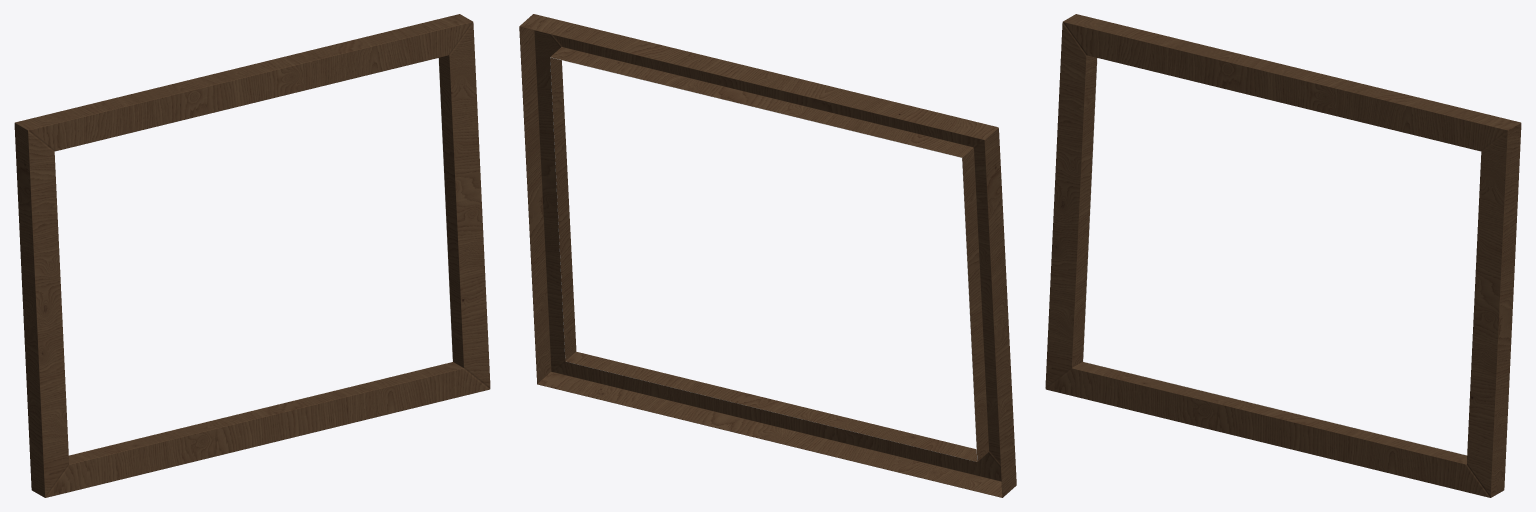
The model's file is cornice.glb.
The picture shows the model from 3 angles, left to right: view 1: azimuth 30°, elevation 25°; view 2: azimuth 150°, elevation 25°; view 3: azimuth 330°, elevation 25°; orthographic projection. The views are drawn at different scales.
Parts seen in each view (by area): view 1: 01_Painting_01; view 2: 01_Painting_01; view 3: 01_Painting_01.
Part boxes in pixels (box(x1,y1,x2,y2)): 01_Painting_01: box(14, 14, 490, 497); 01_Painting_01: box(519, 14, 1016, 497); 01_Painting_01: box(1045, 14, 1521, 497).
Bounding box in the file's own units: 0.2622 × 0.201 × 0.0314.
1 material, 1 textured.
